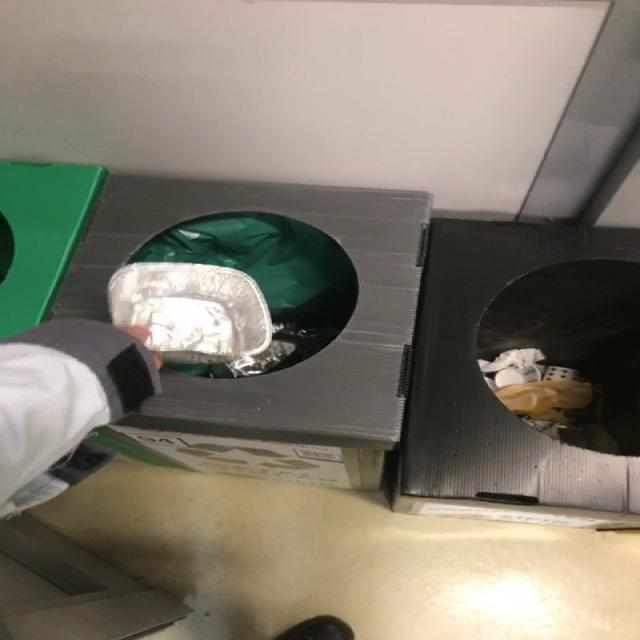Bin: (51, 174, 640, 512), (53, 176, 640, 514)
Metal: (108, 263, 272, 362)
